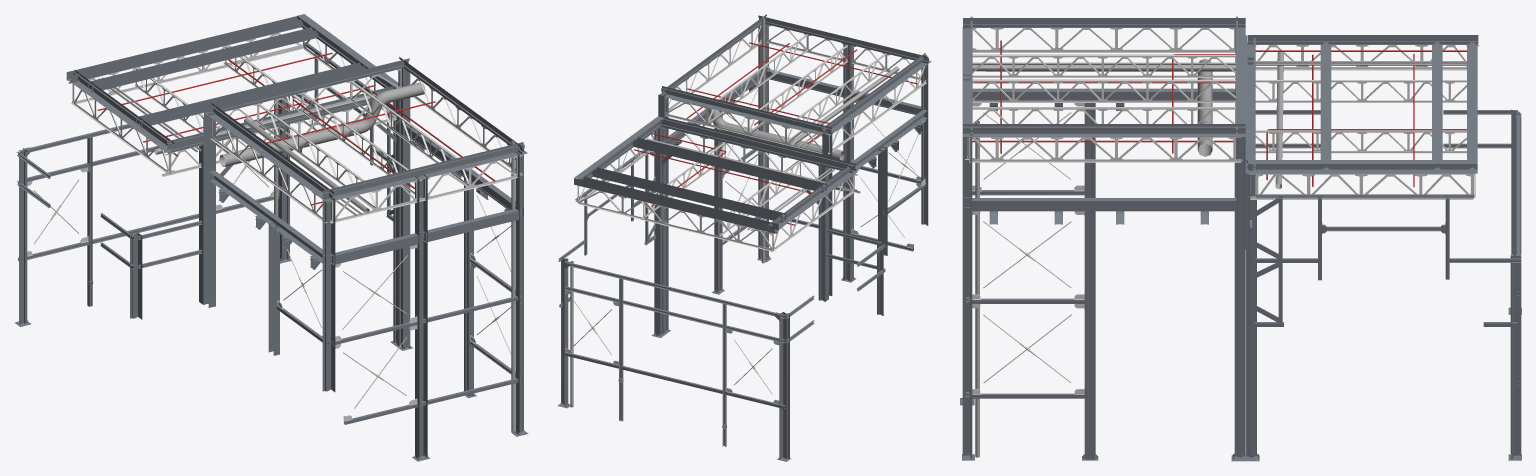
3 renders of one model, left to right at view 1: azimuth 30°, elevation 25°; view 2: azimuth 150°, elevation 25°; view 3: azimuth 270°, elevation 25°, orthographic. The views are drawn at different scales.
Parts seen in each view (by area): view 1: SM_H_Building_FutureTech_HBlack_InterSupport_01A; view 2: SM_H_Building_FutureTech_HBlack_InterSupport_01A; view 3: SM_H_Building_FutureTech_HBlack_InterSupport_01A.
Part boxes in pixels (x1=…): SM_H_Building_FutureTech_HBlack_InterSupport_01A: x1=14, y1=14, x2=528, y2=461; SM_H_Building_FutureTech_HBlack_InterSupport_01A: x1=557, y1=14, x2=931, y2=461; SM_H_Building_FutureTech_HBlack_InterSupport_01A: x1=960, y1=16, x2=1521, y2=461.
Size of the model in its own units: 1738 by 1127 by 1142.
